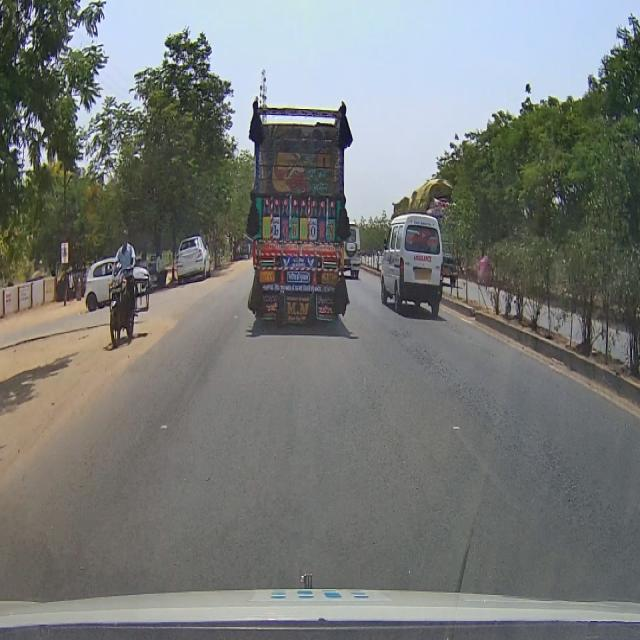car ahead at: (381, 211, 451, 328), (175, 234, 209, 286)
motorcycle ahead at: (101, 256, 147, 343)
truck ahead at: (240, 90, 361, 343)
